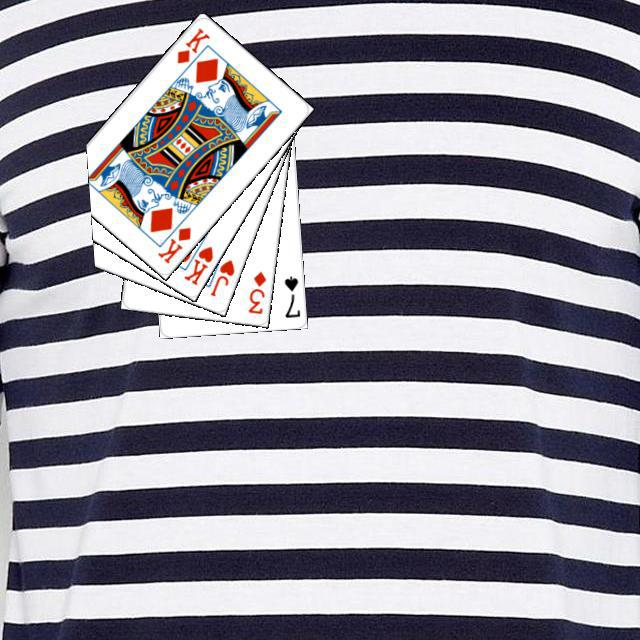3d: (243, 267, 268, 315)
7s: (280, 271, 302, 319)
Jh: (205, 254, 236, 298)
Kd: (152, 222, 193, 265), (172, 23, 211, 65)
Kh: (177, 232, 215, 287)
